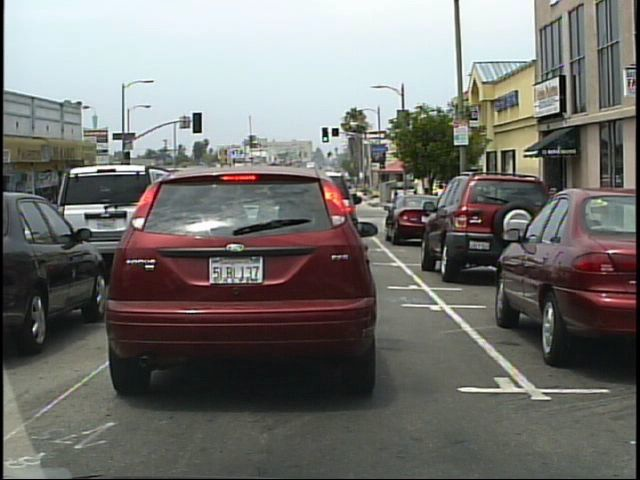person: (389, 189, 401, 222), (410, 188, 419, 219)
